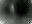person: (10, 4, 16, 17)
